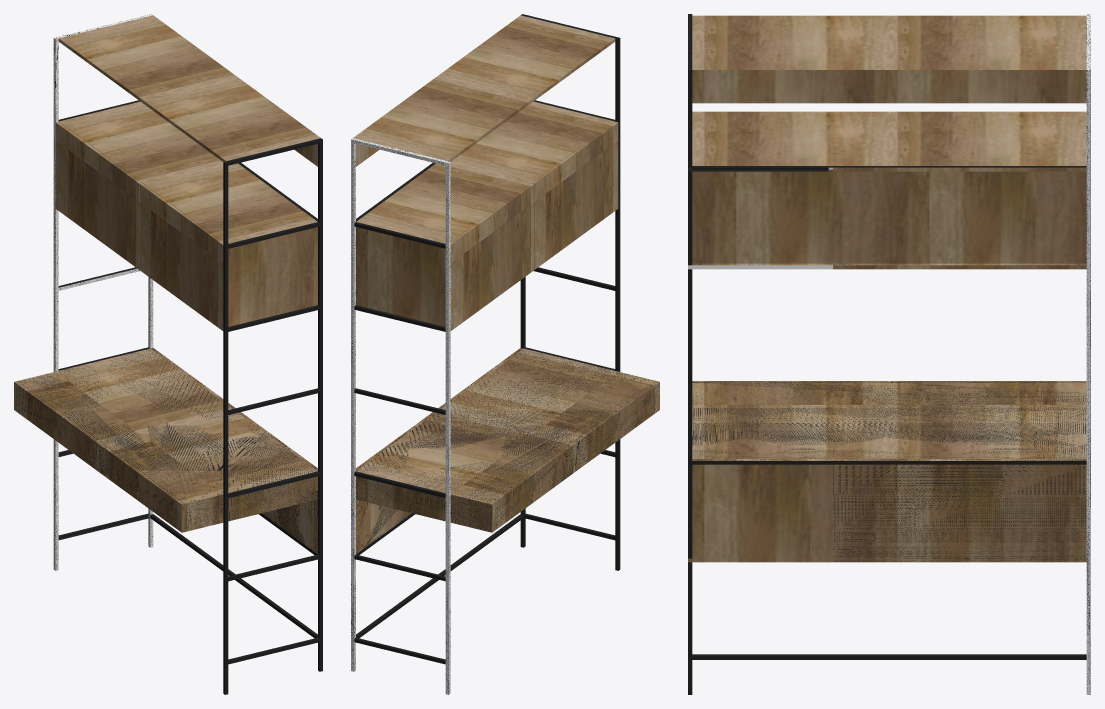
The model's file is IndustrialStorageModularSystem49DeskWestElm.dae.
The picture shows the model from 3 angles, left to right: view 1: azimuth 30°, elevation 25°; view 2: azimuth 150°, elevation 25°; view 3: azimuth 270°, elevation 25°; orthographic projection. The views are drawn at different scales.
Visible parts, largest first — view 1: group_0 (×7); view 2: group_0 (×11); view 3: group_0 (×10).
Part boxes in pixels (x1,y1,x2,y2): group_0 (×7): [14, 14, 322, 694]; group_0 (×11): [351, 14, 659, 694]; group_0 (×10): [688, 14, 1090, 694].
Size of the model in its own units: 22.99 by 48.98 by 83.86.
3 materials, 1 textured.
